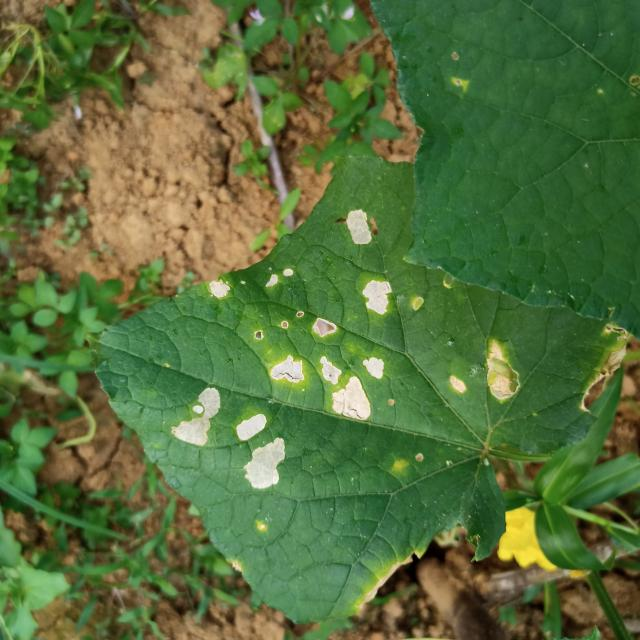disease_cucumber: (268, 317, 387, 423), (447, 339, 520, 405), (234, 413, 287, 493), (170, 386, 222, 450), (360, 278, 393, 318), (258, 264, 298, 295), (346, 206, 372, 251), (208, 277, 232, 301)
